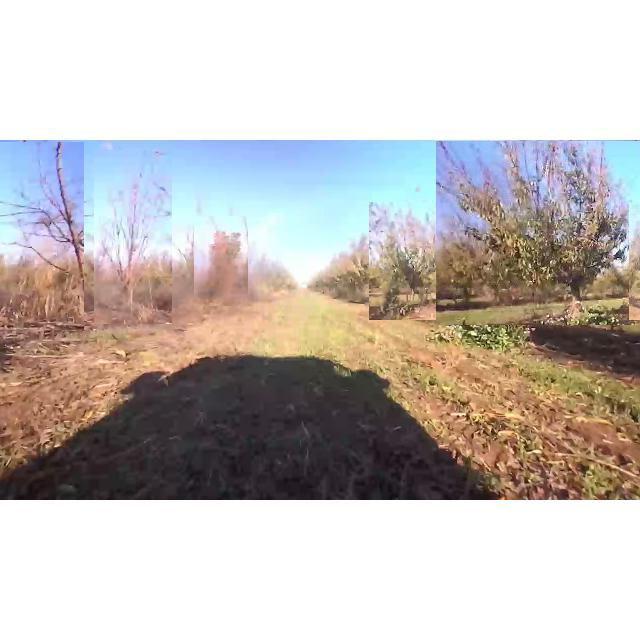direk: (436, 141, 640, 325), (0, 142, 84, 330), (94, 150, 172, 324), (369, 202, 447, 321), (195, 216, 248, 306)
